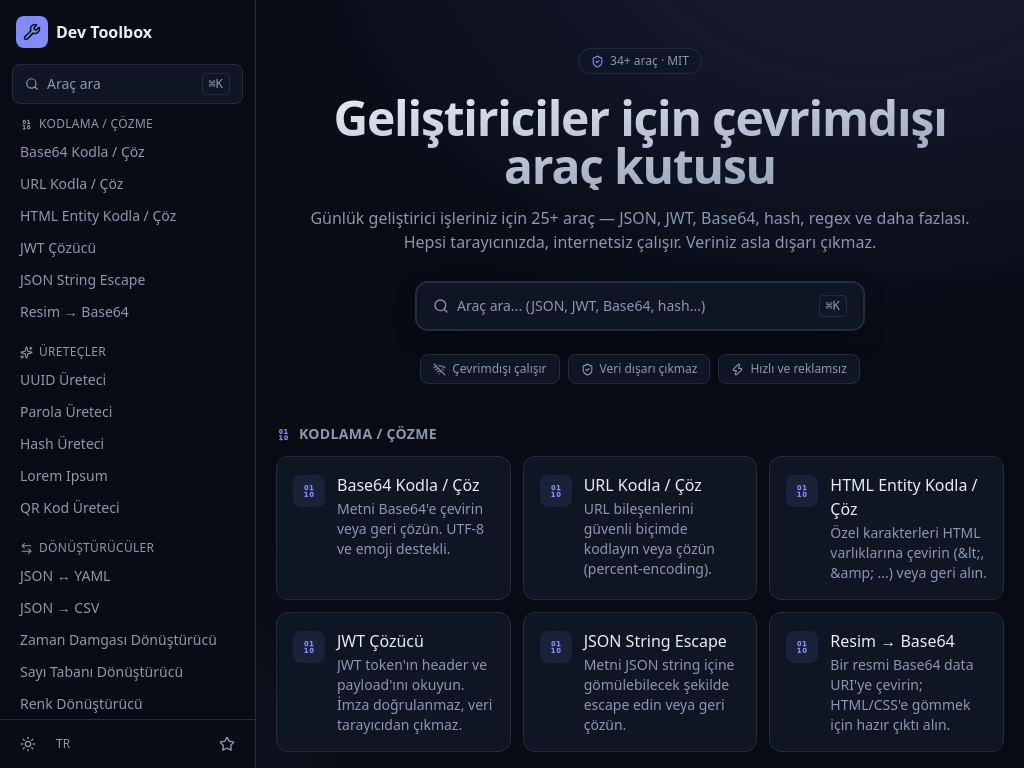
app smoke › navigates to a tool and renders its lazy-loaded body
This screenshot has width=1024, height=768.
Click the link to "#/tool/base64" at (82, 152), box [20, 142, 145, 161]
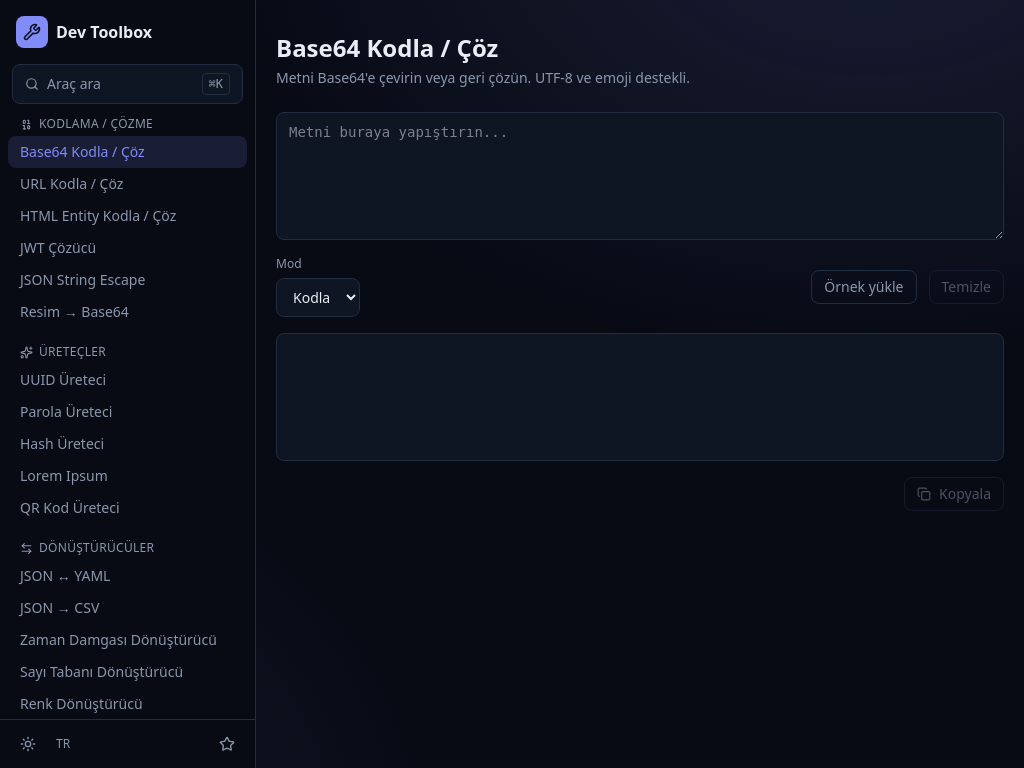
Expected: the text "Base64" is shown, [8, 136, 247, 168]
Now the text box with placeholder "Metni buraya yapıştırın..." is shown, box [276, 112, 1004, 240]
